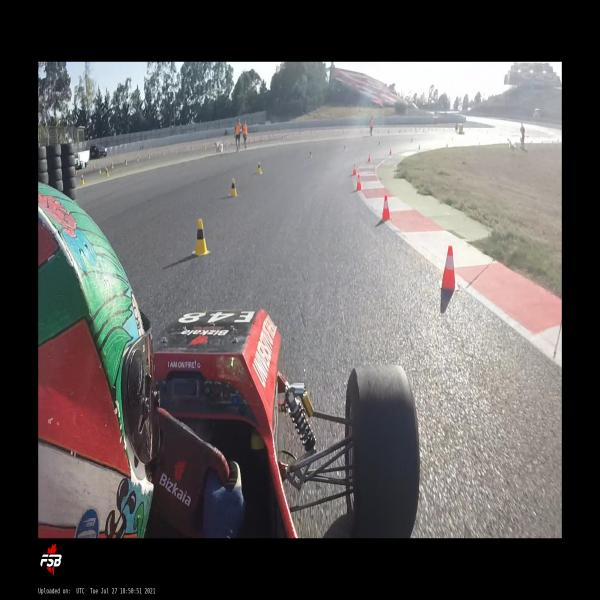orange_cone: (440, 246, 458, 290), (380, 195, 392, 219), (355, 174, 363, 190), (352, 164, 357, 175), (368, 153, 371, 162), (390, 149, 392, 154), (93, 164, 95, 169), (110, 160, 112, 165)
yellow_cone: (192, 219, 211, 256), (229, 178, 238, 196), (257, 162, 262, 175), (80, 175, 85, 185), (105, 169, 109, 177), (309, 151, 312, 158), (98, 167, 101, 174), (125, 160, 128, 165), (112, 163, 114, 169), (344, 146, 346, 152)
